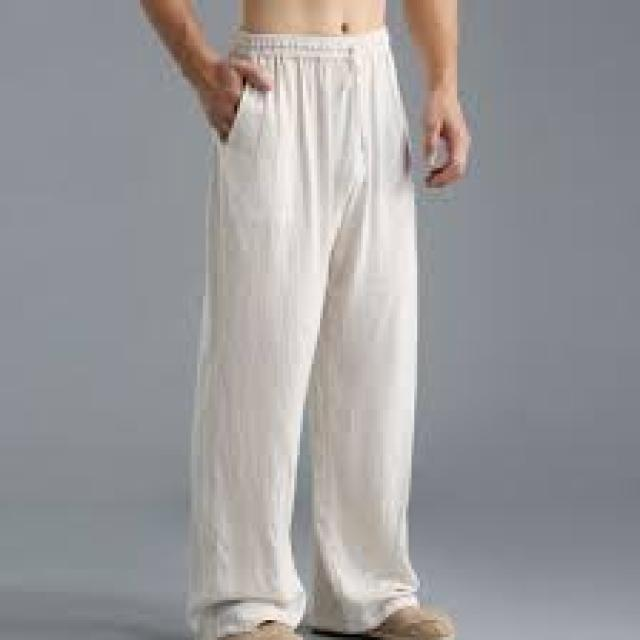pants: (182, 26, 422, 631)
